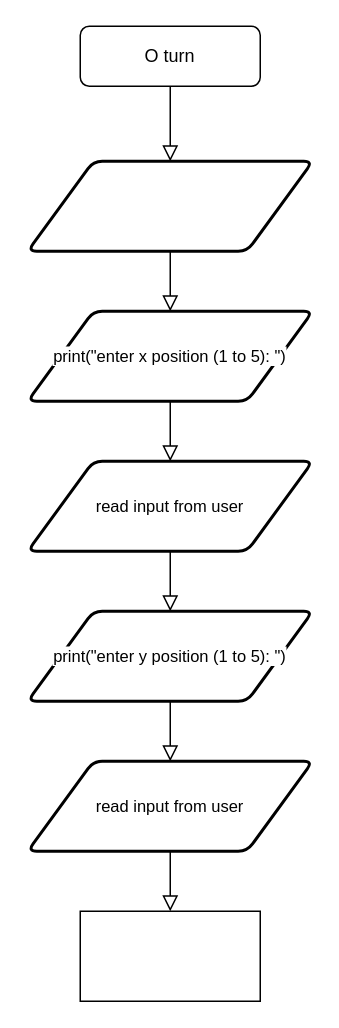
Some shapes in this 339 by 1028 pixel diagram are drawn without their labels. Each missing label, with the centre of its shape:
back to main page: (x=169, y=955)
print("now is O turn!\n"): (x=170, y=205)
